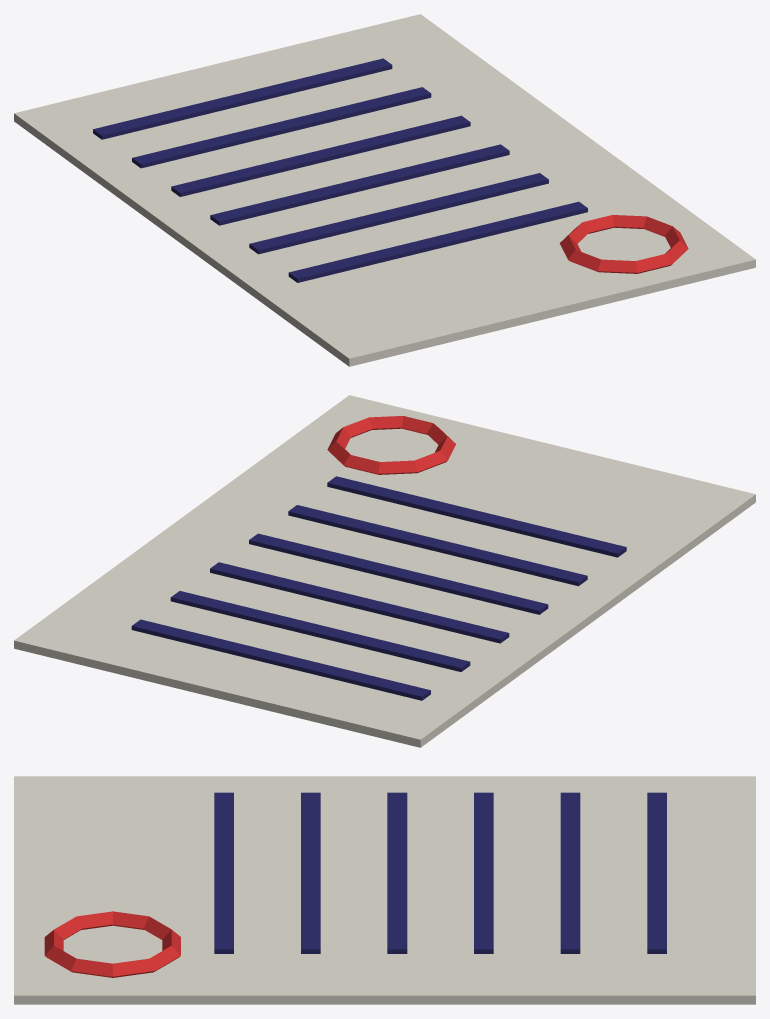
File: rink_jeweler_list.glb
3 views of the same model, one above another, from view 1: azimuth 30°, elevation 25°; view 2: azimuth 150°, elevation 25°; view 3: azimuth 270°, elevation 25° (orthographic). The views are drawn at different scales.
Parts seen in each view (by area): view 1: paper_list_paper, line_list_ink (×6), ring_list_red; view 2: paper_list_paper, line_list_ink (×6), ring_list_red; view 3: paper_list_paper, line_list_ink (×6), ring_list_red.
Part boxes in pixels (x1,y1,x2,y2): paper_list_paper: (14, 14, 755, 366); line_list_ink (×6): (93, 58, 587, 282); ring_list_red: (559, 215, 688, 273); paper_list_paper: (14, 395, 755, 747); line_list_ink (×6): (131, 476, 626, 700); ring_list_red: (327, 416, 455, 474); paper_list_paper: (14, 776, 755, 1004); line_list_ink (×6): (214, 792, 666, 953); ring_list_red: (44, 911, 180, 977).
Bounding box in the file's own units: 0.21 × 0.009 × 0.3.
